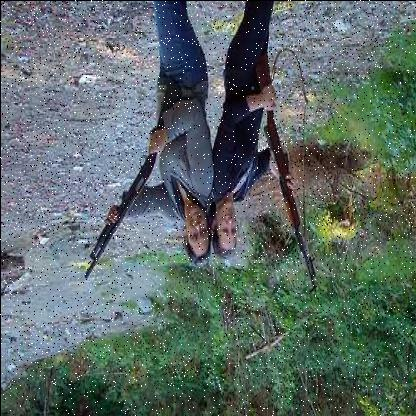rifle: (82, 59, 182, 274)
